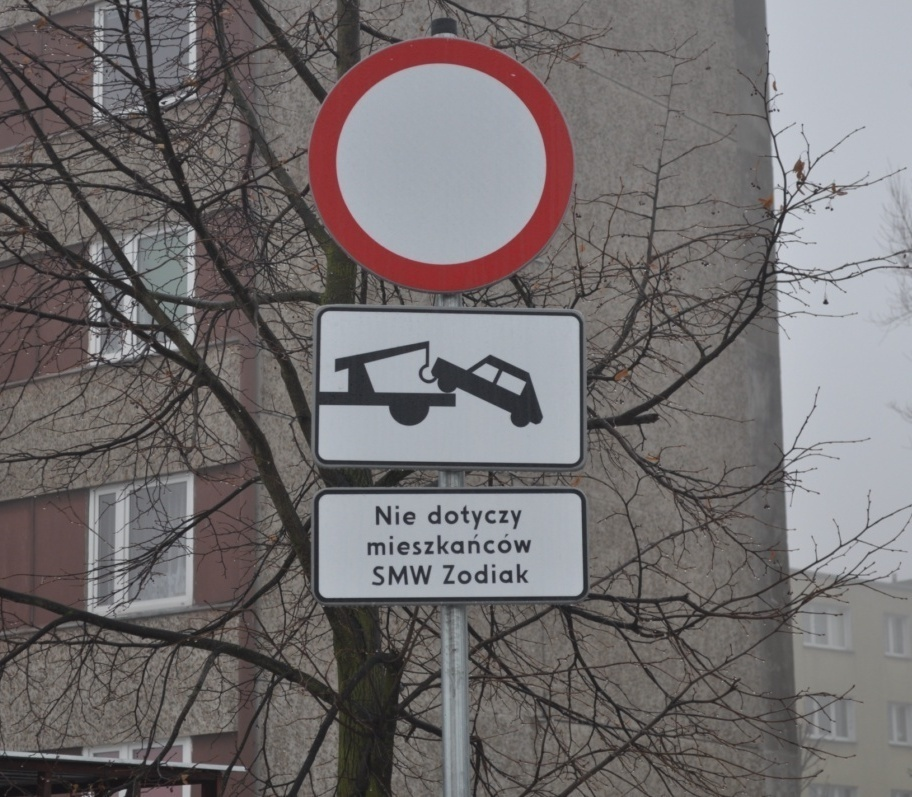no_entry_sign: (309, 36, 576, 296)
